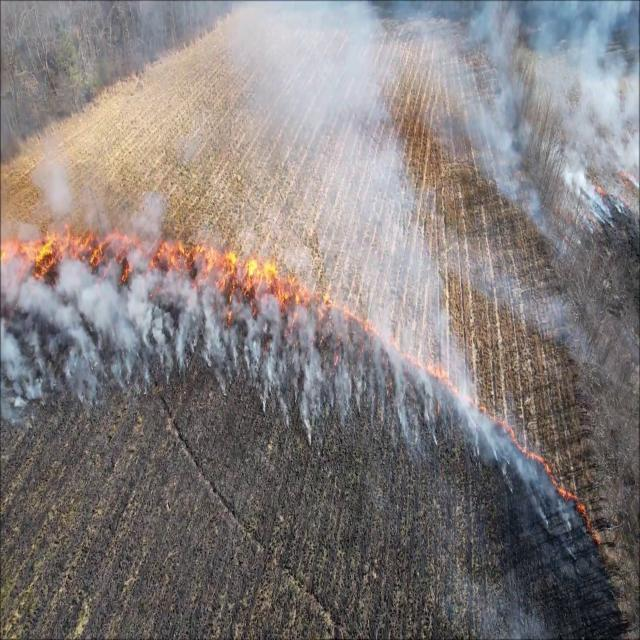Fire: (225, 255, 305, 300)
Smoke: (100, 264, 205, 371), (357, 320, 429, 445), (2, 228, 47, 400), (450, 356, 507, 463), (313, 344, 350, 427), (232, 261, 262, 362), (207, 270, 234, 362)
